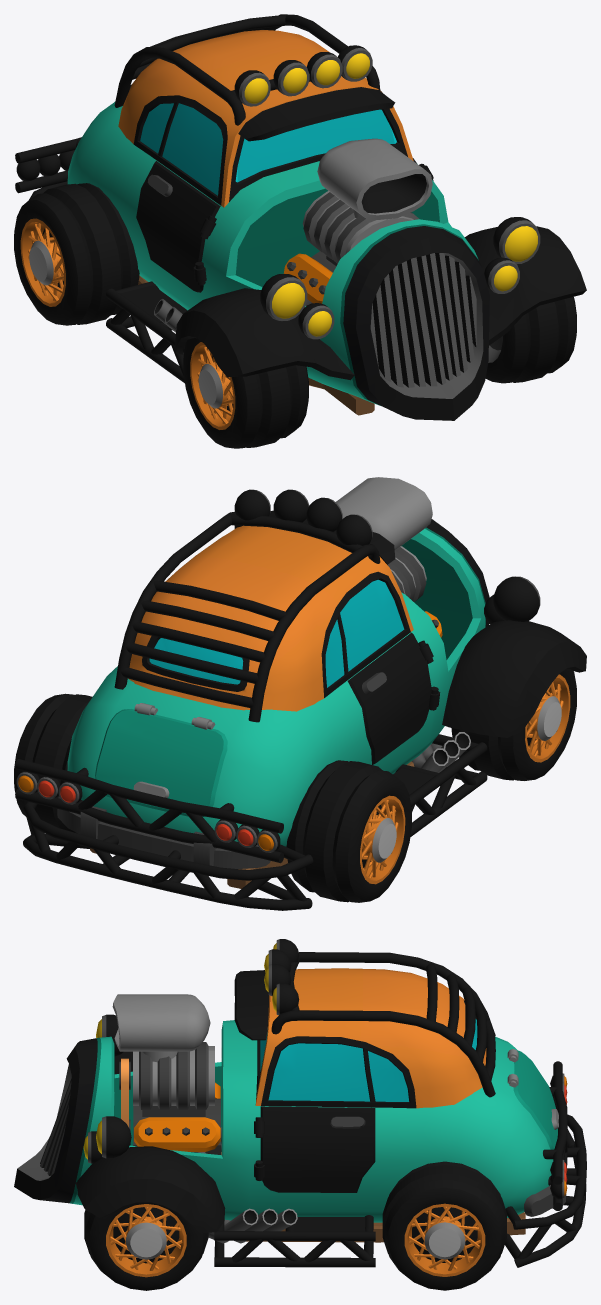
File: VEH3-C.fbx
3 views of the same model, one above another, from view 1: azimuth 30°, elevation 25°; view 2: azimuth 150°, elevation 25°; view 3: azimuth 270°, elevation 25° (orthographic). The views are drawn at different scales.
Parts seen in each view (by area): view 1: VEH3_C, V3C_Wheel_BR, V3C_Wheel_FR, V3C_Wheel_FL; view 2: VEH3_C, V3C_Wheel_BR, V3C_Wheel_FR, V3C_Wheel_BL; view 3: VEH3_C, V3C_Wheel_BL, V3C_Wheel_FL.
Part boxes in pixels (left/top/right/bottom): VEH3_C: left=15, top=14, right=586, bottom=420; V3C_Wheel_BR: left=14, top=183, right=139, bottom=325; V3C_Wheel_FR: left=183, top=338, right=308, bottom=448; V3C_Wheel_FL: left=485, top=297, right=576, bottom=383; VEH3_C: left=15, top=477, right=586, bottom=910; V3C_Wheel_BR: left=286, top=760, right=411, bottom=902; V3C_Wheel_FR: left=451, top=668, right=576, bottom=780; V3C_Wheel_BL: left=14, top=693, right=92, bottom=833; VEH3_C: left=14, top=939, right=586, bottom=1267; V3C_Wheel_BL: left=382, top=1161, right=506, bottom=1290; V3C_Wheel_FL: left=84, top=1202, right=208, bottom=1290.
Size of the model in its own units: 268 by 210 by 410.
Materials: 1 (1 with a texture image).
